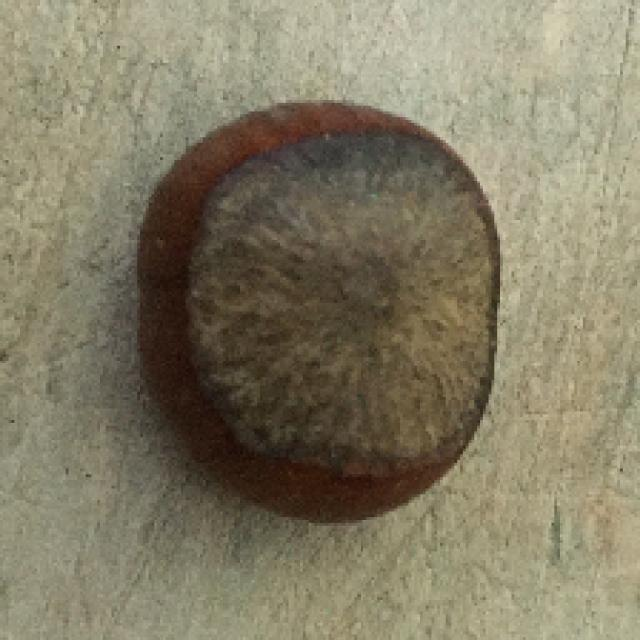qualityHazelnut: (132, 101, 502, 522)
